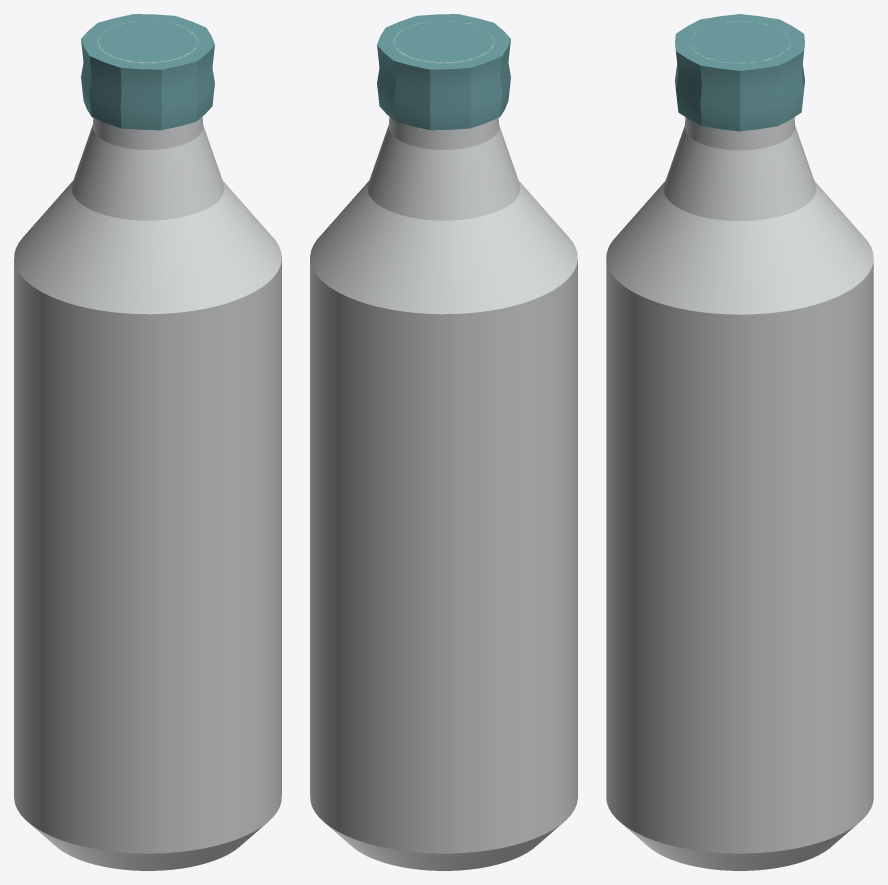
Rendered from bottle.glb.
3 views of the same model, side by side, from view 1: azimuth 30°, elevation 25°; view 2: azimuth 150°, elevation 25°; view 3: azimuth 270°, elevation 25° (orthographic).
Visible parts, largest first — view 1: bottle_shell, bottle_cap; view 2: bottle_shell, bottle_cap; view 3: bottle_shell, bottle_cap.
Boxes of the visible parts, x1,y1,x2,y2 form: bottle_shell: (14,20,281,870); bottle_cap: (81,14,214,130); bottle_shell: (310,20,577,870); bottle_cap: (377,14,510,130); bottle_shell: (606,21,873,870); bottle_cap: (675,14,804,131).
Size of the model in its own units: 0.063 by 0.204 by 0.063.
